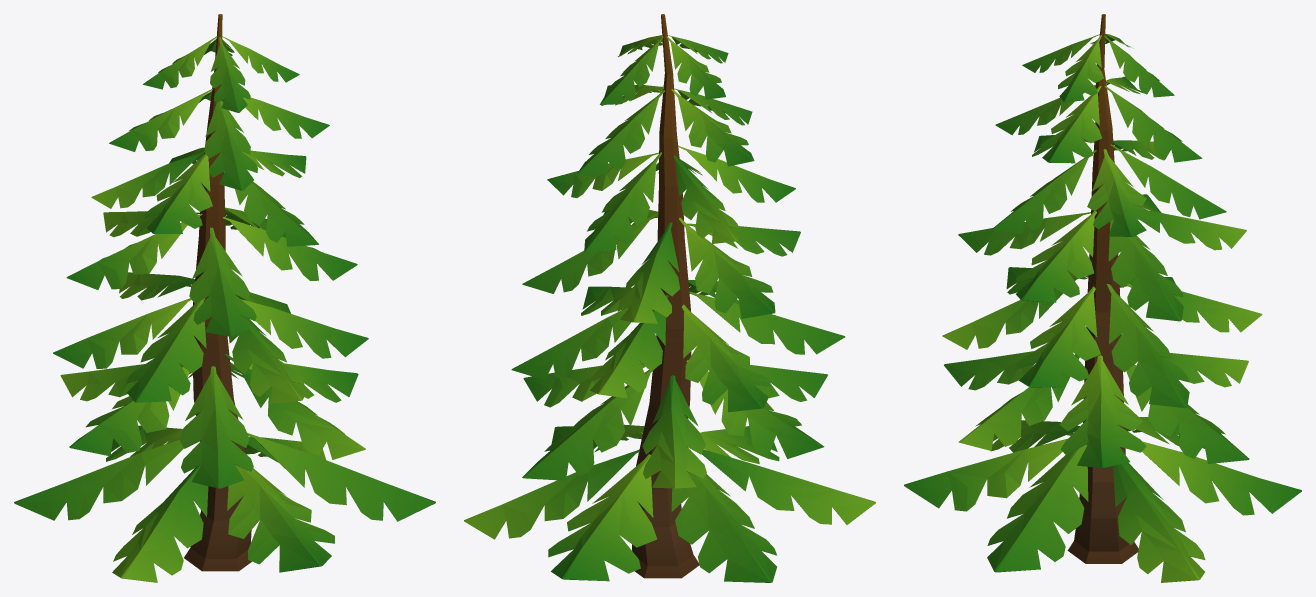
Rendered from Tree_10.fbx.
The picture shows the model from 3 angles, left to right: view 1: azimuth 30°, elevation 25°; view 2: azimuth 150°, elevation 25°; view 3: azimuth 270°, elevation 25°; orthographic projection. The views are drawn at different scales.
Visible parts, largest first — view 1: Tree_10; view 2: Tree_10; view 3: Tree_10.
Part boxes in pixels (bbox=[...]): Tree_10: bbox=[14, 14, 435, 582]; Tree_10: bbox=[464, 14, 875, 582]; Tree_10: bbox=[904, 14, 1301, 582].
Bounding box in the file's own units: 353 × 576 × 388.
